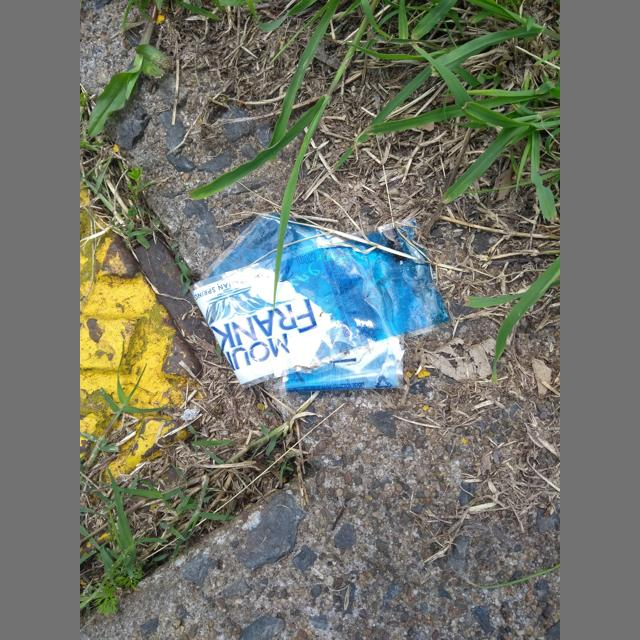litter: (189, 212, 451, 393)
